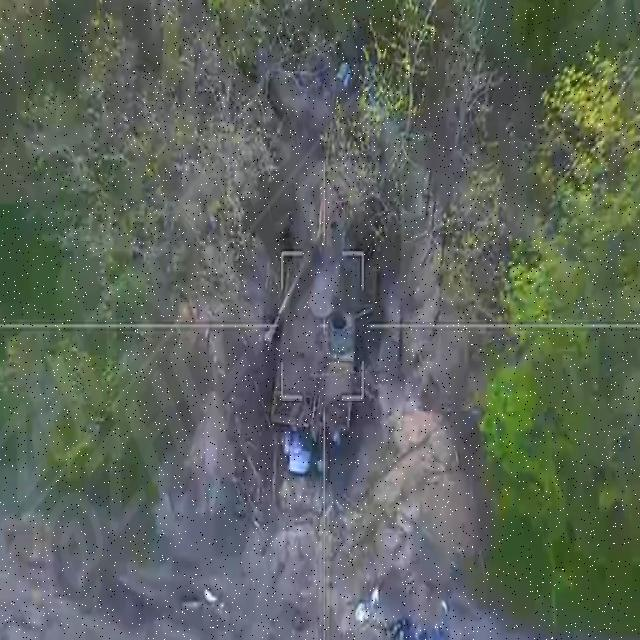ART: (264, 120, 382, 442)
